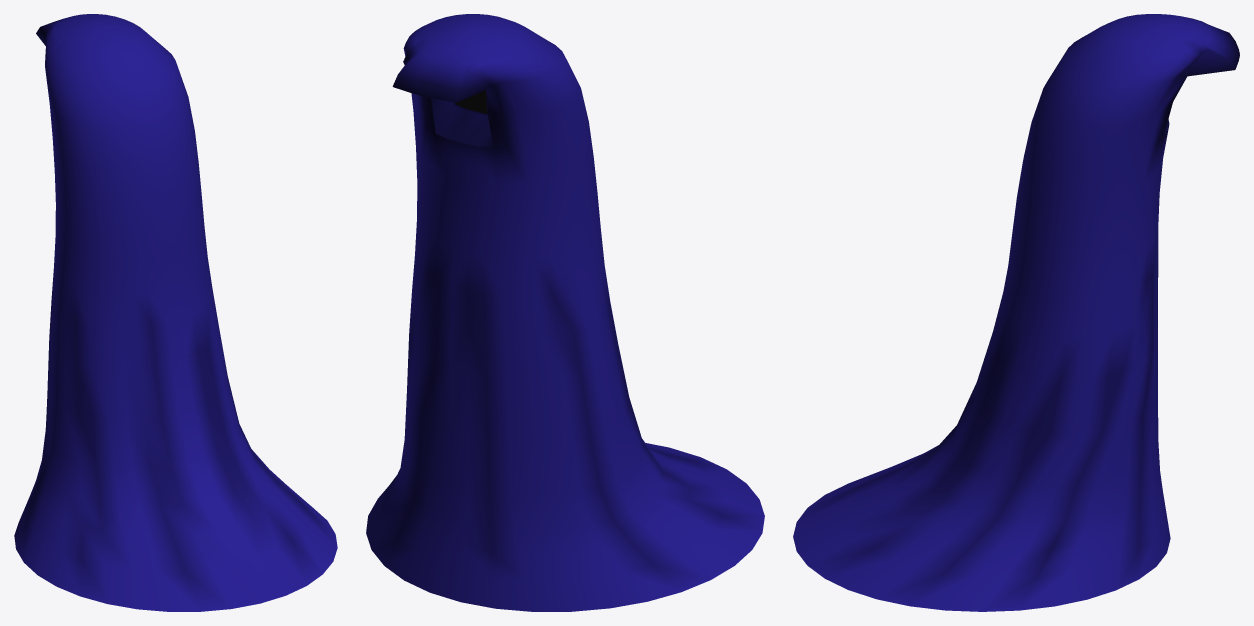
File: enemy.gltf
3 renders of one model, left to right at view 1: azimuth 30°, elevation 25°; view 2: azimuth 150°, elevation 25°; view 3: azimuth 270°, elevation 25°, orthographic. The views are drawn at different scales.
Visible parts, largest first — view 1: Cylinder; view 2: Cylinder; view 3: Cylinder.
Part boxes in pixels (box(x1,y1,x2,y2)): Cylinder: box(14, 14, 337, 611); Cylinder: box(366, 14, 764, 611); Cylinder: box(793, 14, 1239, 611).
Size of the model in its own units: 1.75 by 2.8 by 2.2.
Materials: 2 (1 with a texture image).
